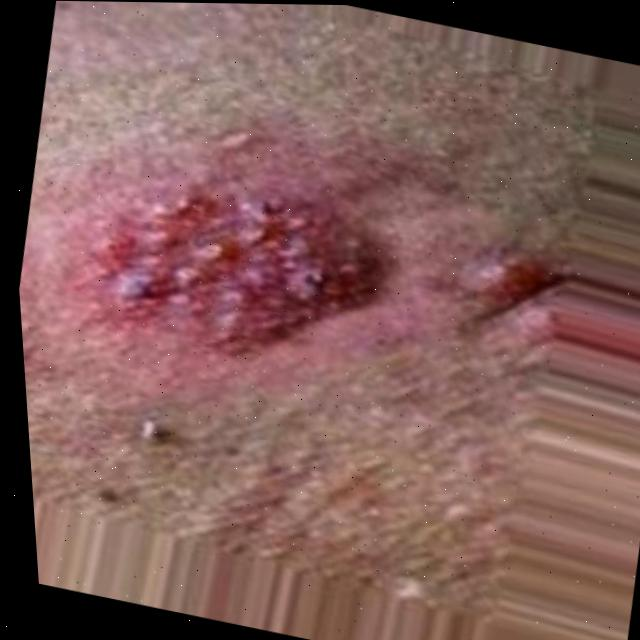Shingles: (74, 160, 395, 378)
